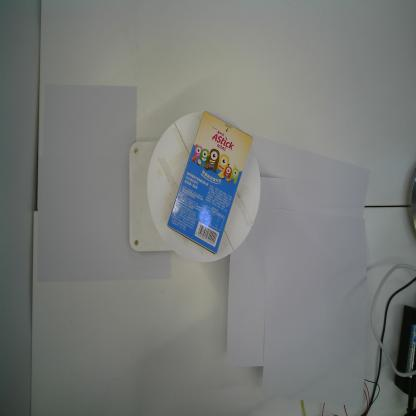Dessert: (167, 110, 254, 255)
